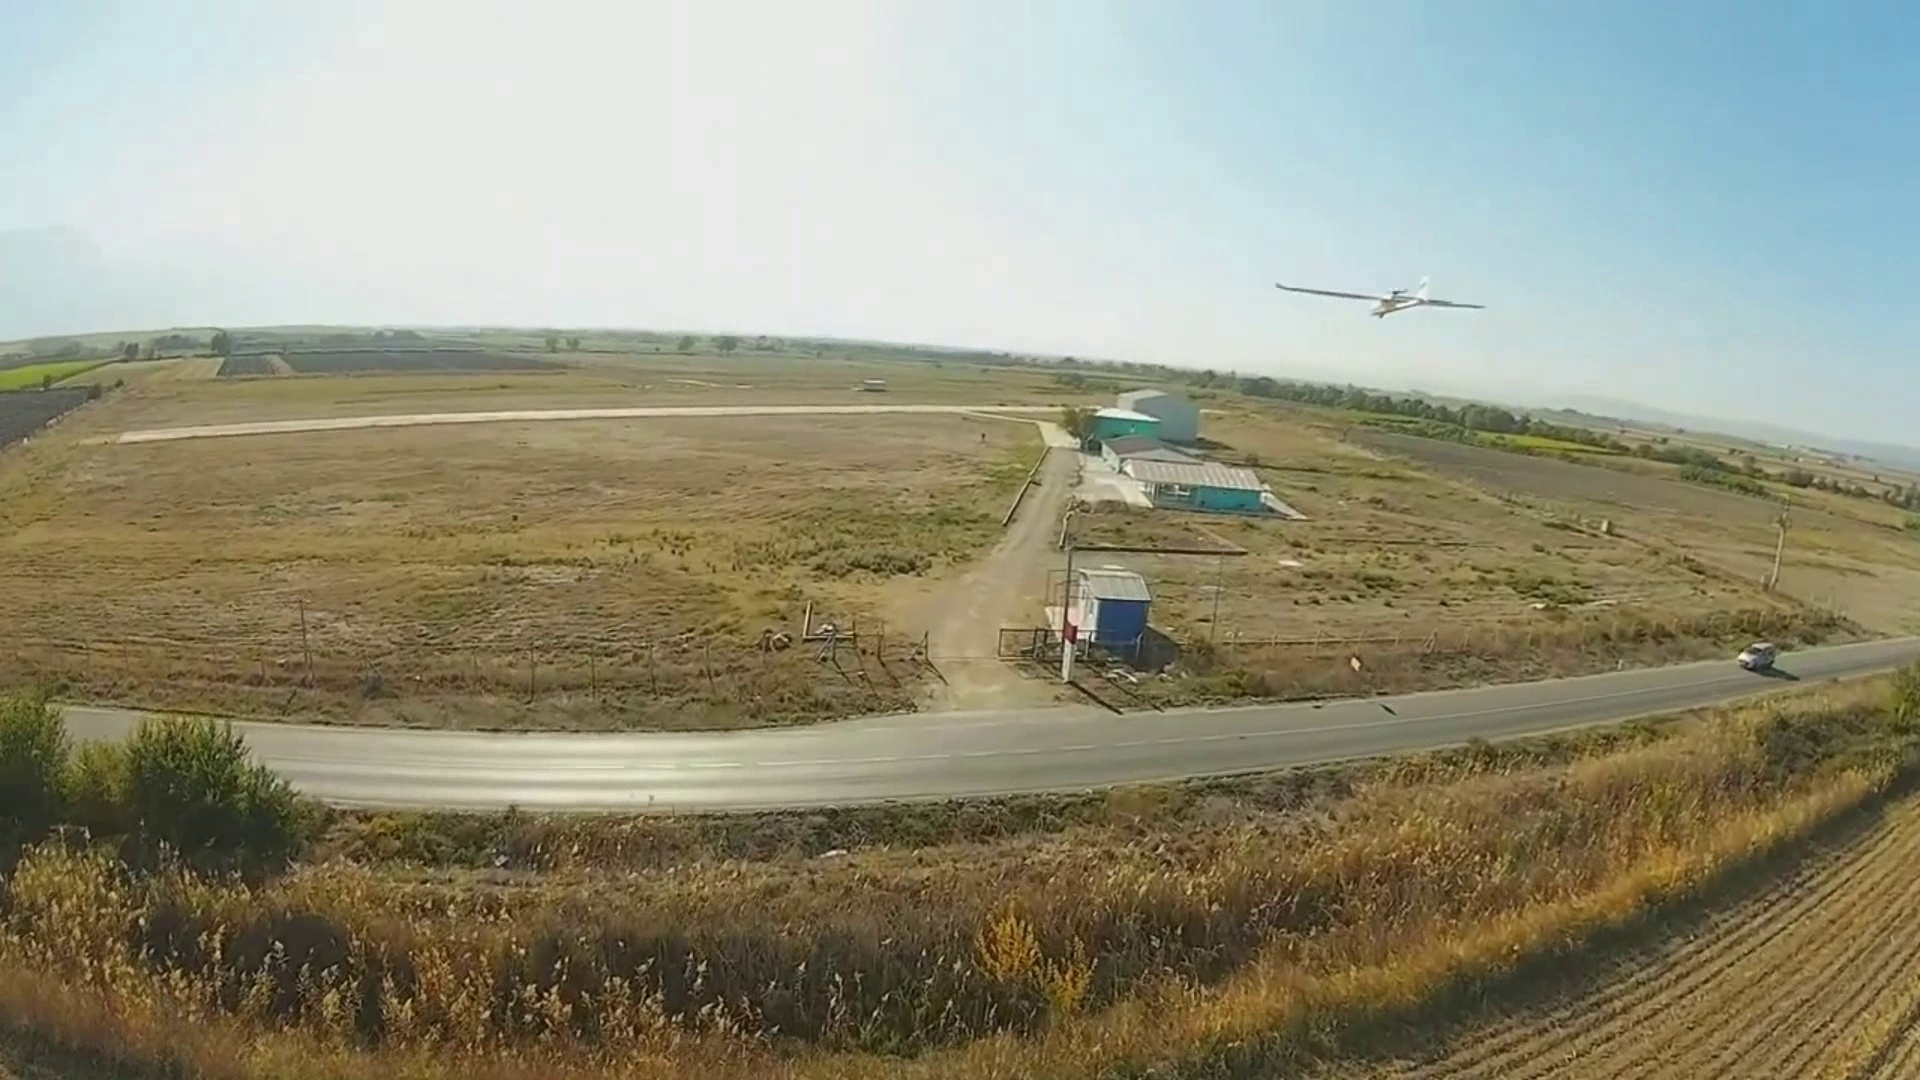airplane: (1271, 266, 1488, 319)
